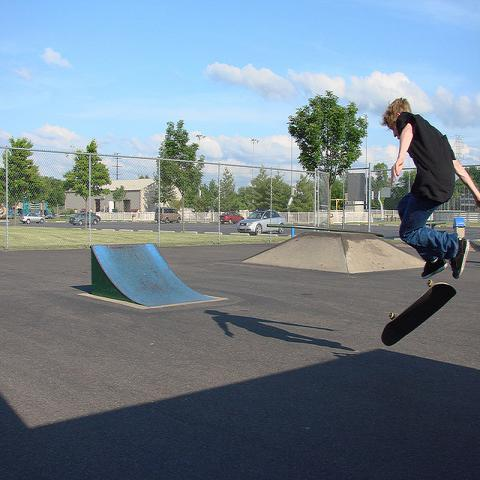car: (236, 209, 286, 235), (154, 207, 181, 224), (68, 212, 98, 226), (220, 210, 244, 225), (19, 212, 46, 225), (45, 210, 55, 217)
